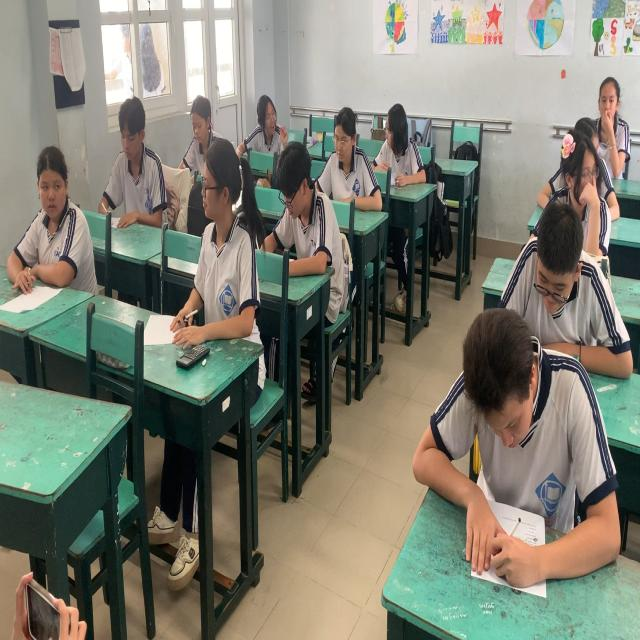cheating: (193, 144, 251, 348), (549, 130, 609, 228), (375, 103, 424, 175), (250, 93, 288, 162)
not_cheating: (420, 306, 599, 608), (26, 103, 100, 292), (516, 223, 588, 345), (278, 130, 318, 255), (325, 116, 379, 206), (117, 96, 154, 202), (590, 75, 622, 137), (187, 82, 212, 154), (197, 151, 198, 154)
